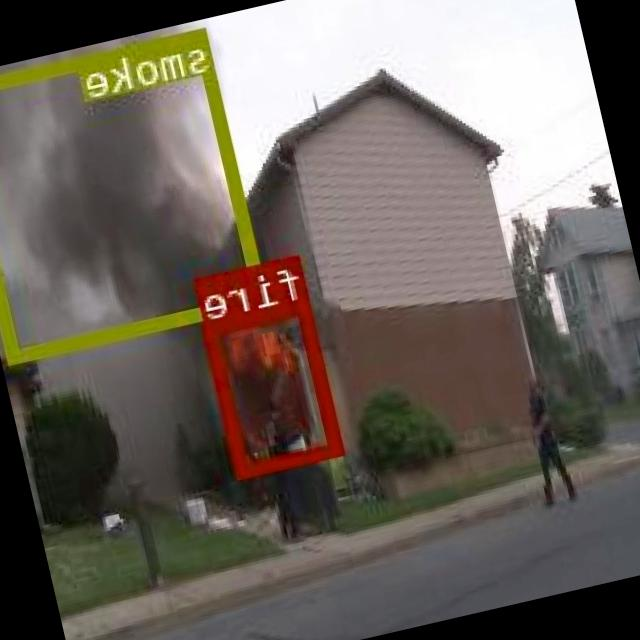fire: (205, 299, 345, 476)
smoke: (0, 24, 269, 359)
